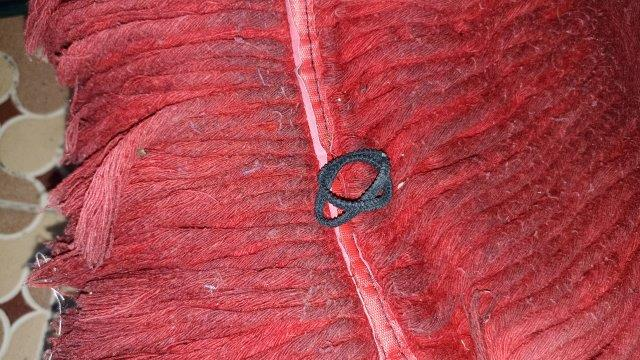karet: (314, 150, 392, 228)
